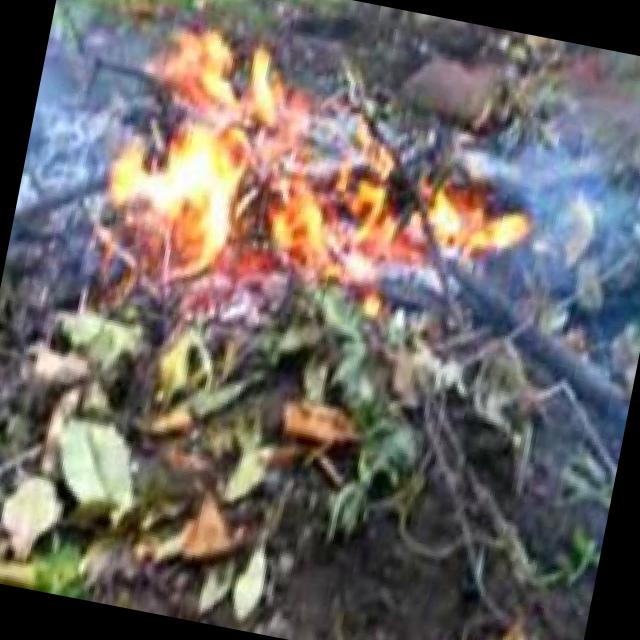Fire: (68, 5, 342, 302), (234, 116, 546, 322)
